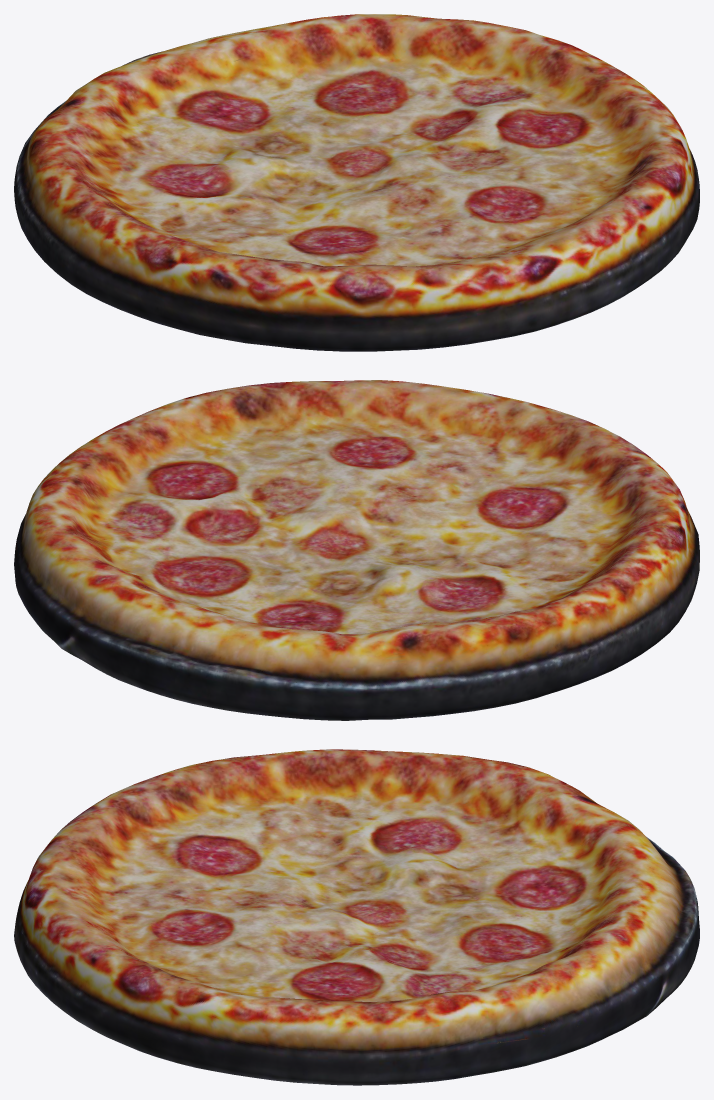
Rendered from 59b2b0a1bc07_pizza__photo_realis.fbx.
3 views of the same model, one above another, from view 1: azimuth 30°, elevation 25°; view 2: azimuth 150°, elevation 25°; view 3: azimuth 270°, elevation 25° (orthographic).
Visible parts, largest first — view 1: mesh; view 2: mesh; view 3: mesh.
Part boxes in pixels (left/top/right/bottom): mesh: left=14, top=14, right=699, bottom=351; mesh: left=14, top=380, right=699, bottom=720; mesh: left=14, top=749, right=699, bottom=1085.
Bounding box in the file's own units: 99.29 × 11.61 × 99.96.
